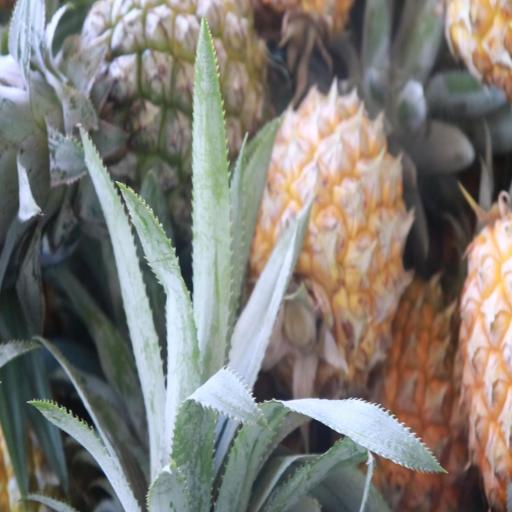Pineapple - v8 v1: (252, 91, 410, 375)
